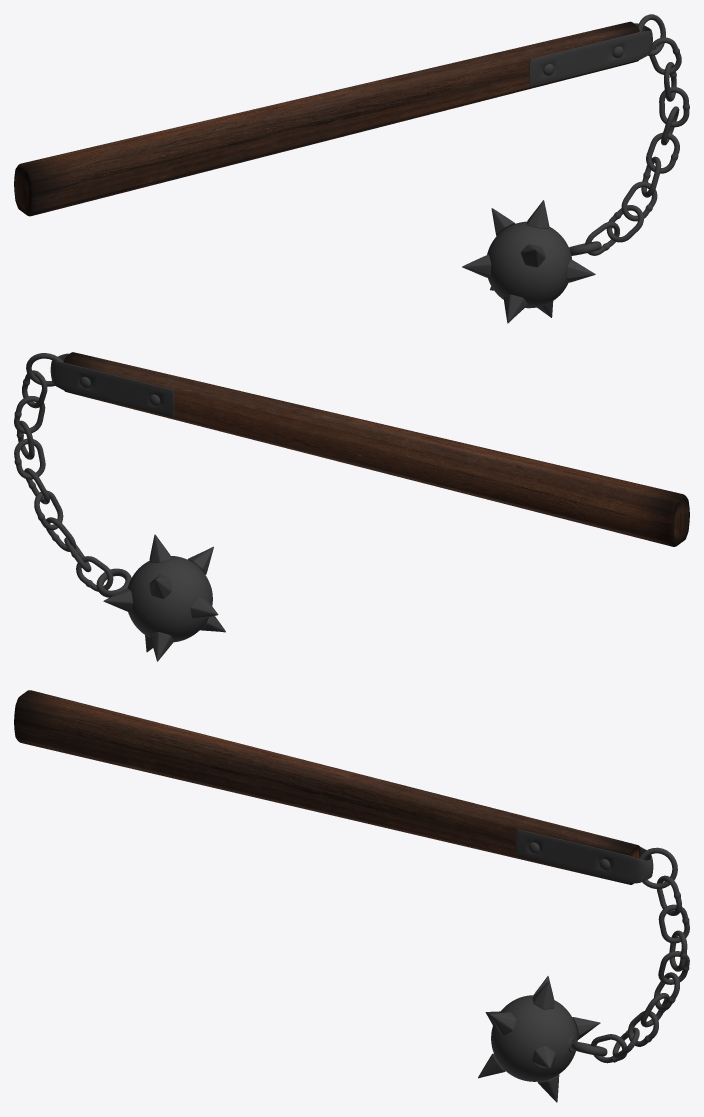
Rendered from 13026_Ball_and_Chain_Flail_v1_L3.obj.
3 views of the same model, one above another, from view 1: azimuth 30°, elevation 25°; view 2: azimuth 150°, elevation 25°; view 3: azimuth 330°, elevation 25° (orthographic).
Parts seen in each view (by area): view 1: Ball_and_Chain_Flail_body, Ball_and_Chain_Flail_detail; view 2: Ball_and_Chain_Flail_body, Ball_and_Chain_Flail_detail; view 3: Ball_and_Chain_Flail_body, Ball_and_Chain_Flail_detail.
Boxes of the visible parts, bbox=[...] form: Ball_and_Chain_Flail_body: bbox=[14, 21, 639, 216]; Ball_and_Chain_Flail_detail: bbox=[462, 14, 689, 323]; Ball_and_Chain_Flail_body: bbox=[64, 352, 689, 546]; Ball_and_Chain_Flail_detail: bbox=[14, 353, 225, 661]; Ball_and_Chain_Flail_body: bbox=[14, 690, 640, 884]; Ball_and_Chain_Flail_detail: bbox=[478, 829, 689, 1102].
Bounding box in the file's own units: 50.46 × 20.38 × 6.71.
Materials: 2 (1 with a texture image).
